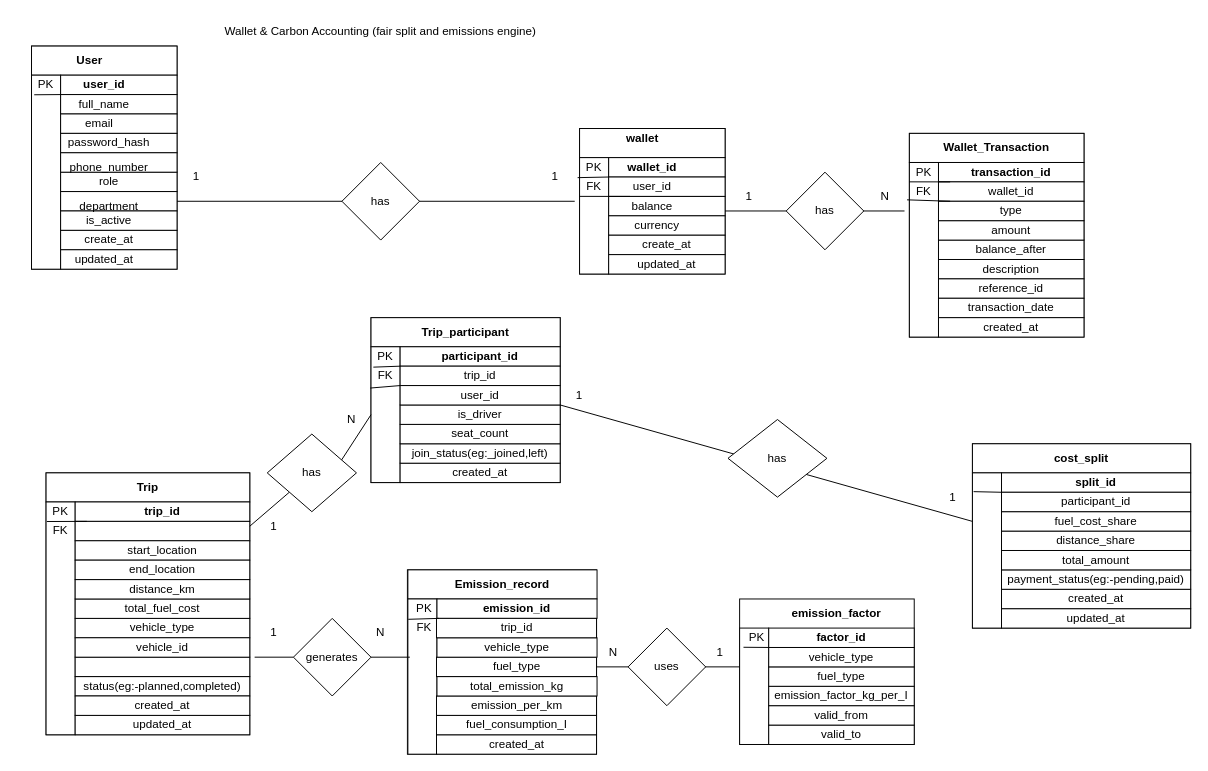
Some shapes in this 1208 by 771 pixel diagram are drawn without their labels. Here are the shapes that lost their labels. From the top down, the centre of each, then its label:
At point (162, 530): "driver_id".
At point (162, 666): "trip_date".
